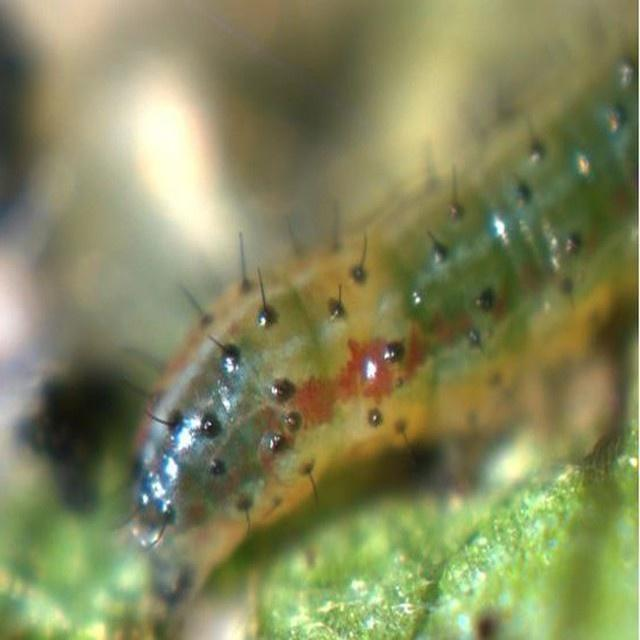gusano_cogollero: (124, 34, 640, 552)
